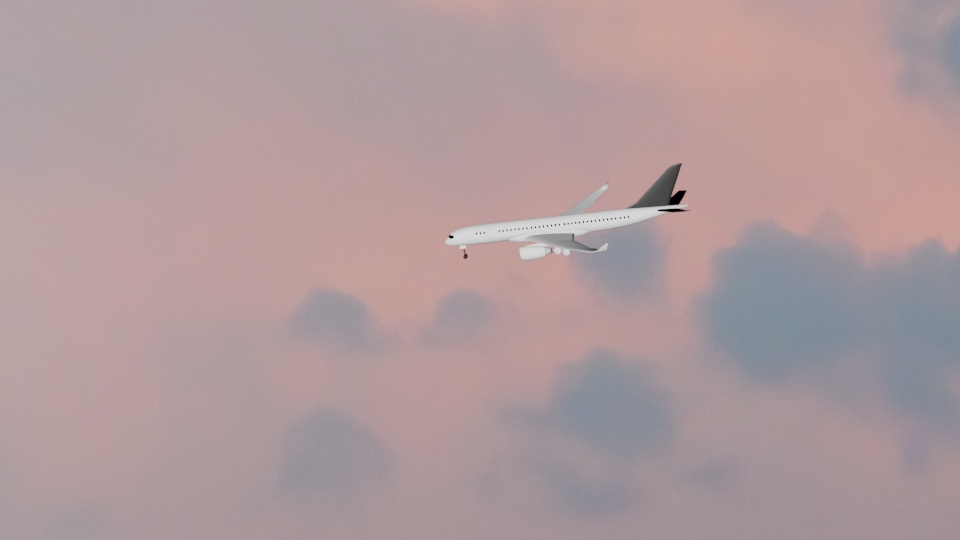plane: (441, 161, 692, 264)
